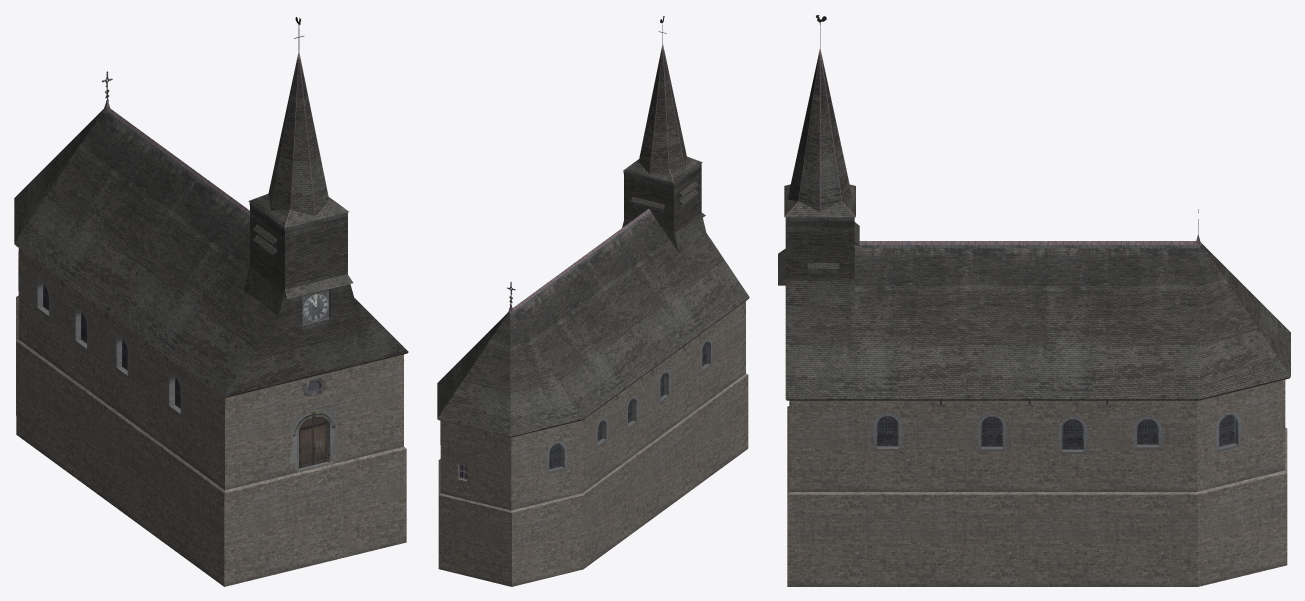
Rendered from church.glb.
3 views of the same model, side by side, from view 1: azimuth 30°, elevation 25°; view 2: azimuth 150°, elevation 25°; view 3: azimuth 270°, elevation 25° (orthographic). The views are drawn at different scales.
Parts seen in each view (by area): view 1: m; view 2: m; view 3: m.
Boxes of the visible parts, x1,y1,x2,y2 form: m: [14, 17, 408, 586]; m: [437, 16, 749, 586]; m: [778, 15, 1290, 586].
Bounding box in the file's own units: 10.34 × 28.64 × 25.17.
1 material, 1 textured.
